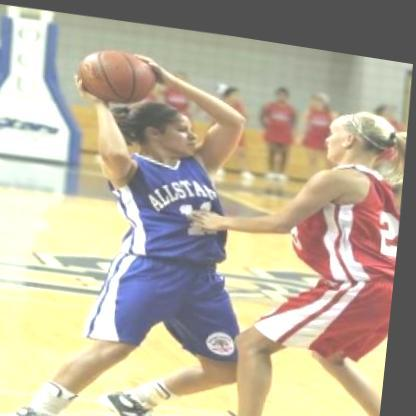basketball: (77, 39, 161, 105)
